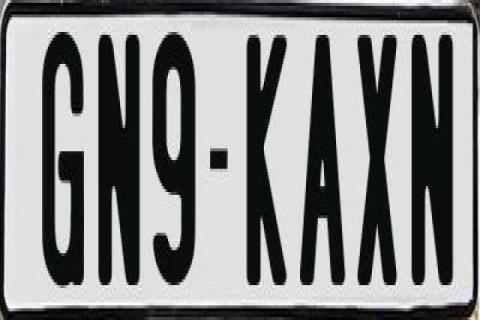0: (152, 26, 202, 291)
A: (298, 27, 350, 286)
G: (42, 32, 90, 288)
K: (244, 32, 288, 285)
N: (411, 32, 458, 294), (94, 35, 138, 291)
X: (358, 32, 398, 288)
